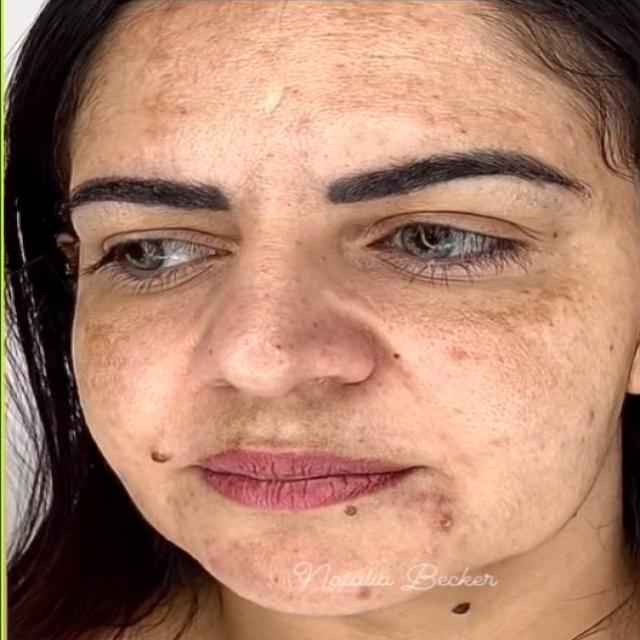Melasma: (103, 0, 488, 118), (401, 283, 581, 438), (198, 526, 366, 612), (76, 306, 170, 438)
